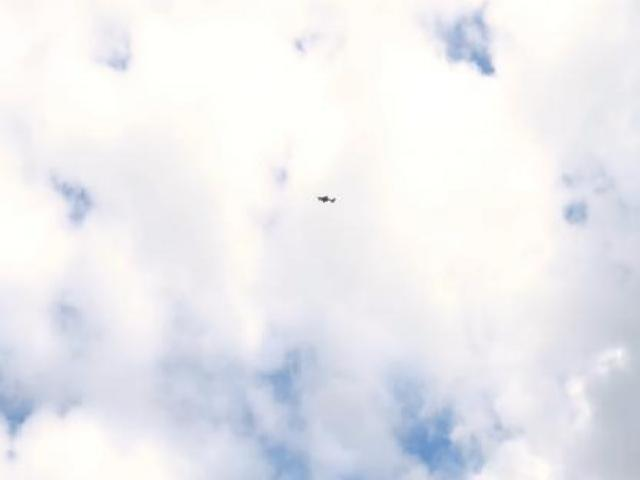uav: (316, 191, 338, 205)
